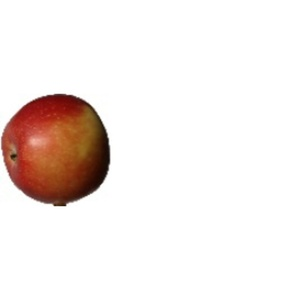maçã braeburn: (2, 91, 111, 205)
